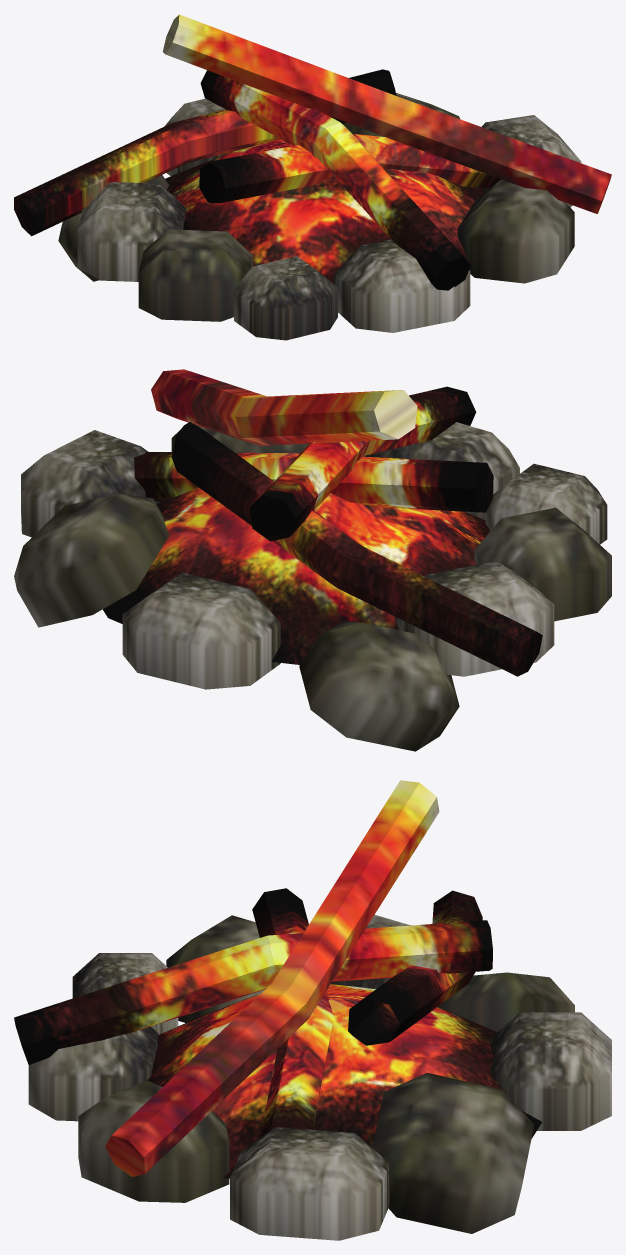
The model's file is feu de camp.FBX.
The picture shows the model from 3 angles, top to bottom: view 1: azimuth 30°, elevation 25°; view 2: azimuth 150°, elevation 25°; view 3: azimuth 270°, elevation 25°; orthographic projection. The views are drawn at different scales.
Visible parts, largest first — view 1: feu; view 2: feu; view 3: feu.
Part boxes in pixels (x1,y1,x2,y2): feu: (14, 14, 611, 340); feu: (14, 369, 611, 751); feu: (14, 780, 611, 1240).
Size of the model in its own units: 2.03 by 1.05 by 1.8.
